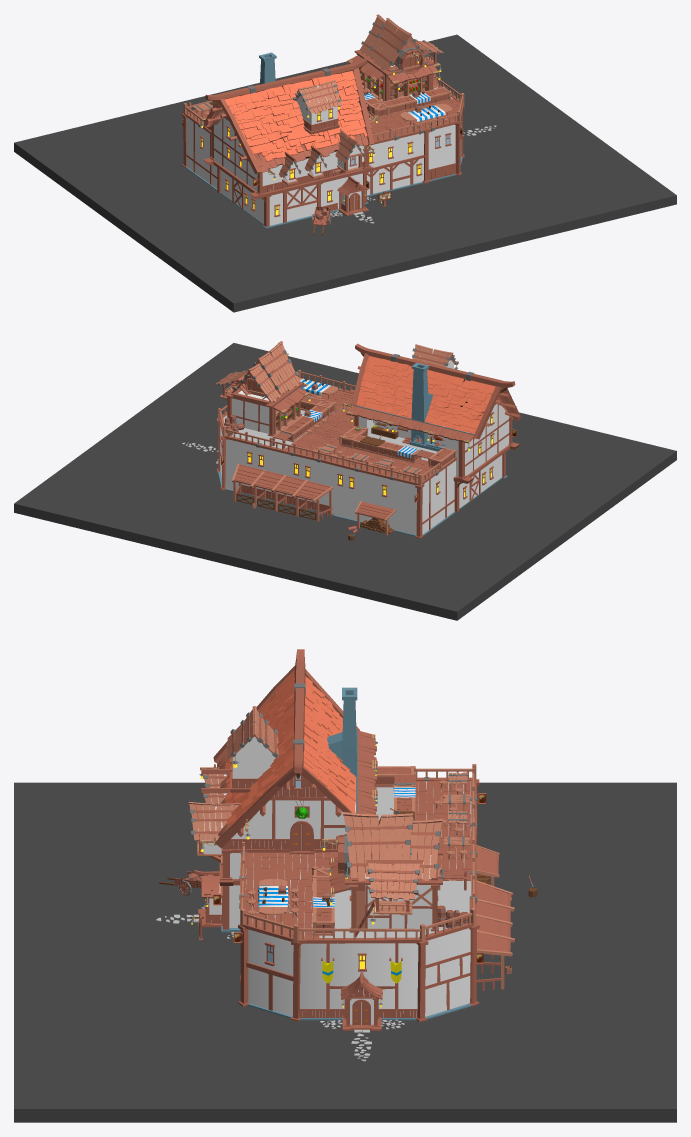
File: tavern_troll.glb
3 renders of one model, top to bottom at view 1: azimuth 30°, elevation 25°; view 2: azimuth 150°, elevation 25°; view 3: azimuth 270°, elevation 25°, orthographic. The views are drawn at different scales.
Parts seen in each view (by area): view 1: ground, house; view 2: ground, house; view 3: ground, house.
Boxes of the visible parts, x1,y1,x2,y2 form: ground: (14, 34, 676, 312); house: (181, 14, 496, 234); ground: (14, 343, 676, 620); house: (181, 341, 520, 540); ground: (14, 782, 676, 1122); house: (156, 649, 537, 1061).
Size of the model in its own units: 50.14 by 15.12 by 43.05.
24 materials, 3 textured.
